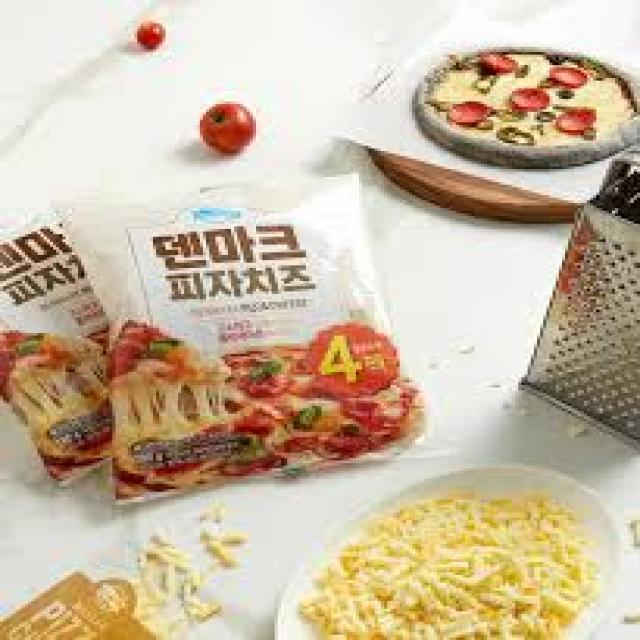Cheese: (65, 190, 402, 453), (347, 512, 568, 635)
